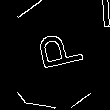P_W: (26, 31, 84, 79)
